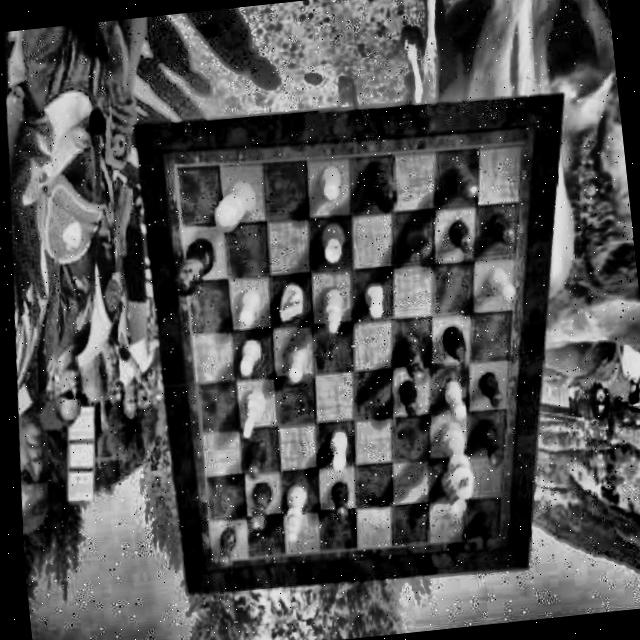black-bishop: (394, 334, 424, 386), (438, 162, 474, 202)
black-king: (354, 157, 396, 216)
black-knight: (436, 323, 470, 370), (394, 224, 430, 266)
black-pawn: (212, 528, 239, 571), (471, 509, 498, 552), (475, 370, 504, 410), (482, 210, 512, 247), (241, 440, 267, 481), (326, 480, 351, 521), (442, 218, 470, 254), (394, 379, 418, 419)
black-queen: (164, 238, 216, 300)
black-rook: (470, 416, 505, 469), (244, 482, 276, 534)
white-bishop: (280, 484, 310, 543), (314, 289, 342, 337)
white-king: (432, 421, 477, 501)
white-knight: (234, 391, 266, 440), (272, 282, 302, 322)
white-pawn: (231, 339, 260, 377), (482, 266, 512, 302), (438, 380, 465, 420), (232, 290, 258, 328), (324, 430, 348, 471), (358, 281, 383, 320), (281, 345, 306, 383), (311, 166, 336, 202)
white-queen: (206, 180, 253, 233)
white-rook: (436, 465, 468, 517), (312, 222, 342, 266)
